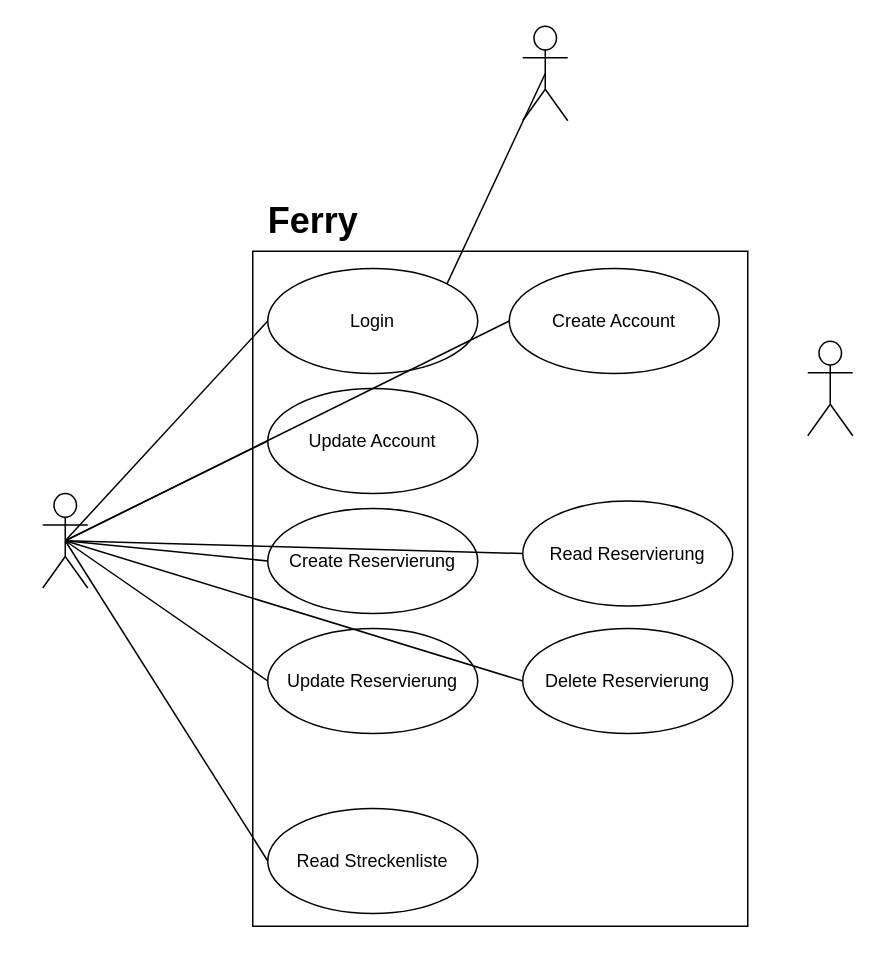
The diagram is 879 pixels wide and 953 high, and some of its shapes have lost their labels. Each missing label, with the centre of its shape:
"Authentication" goes at point 544,73.
"Customer" goes at point 64,540.
"DB" goes at point 829,388.
